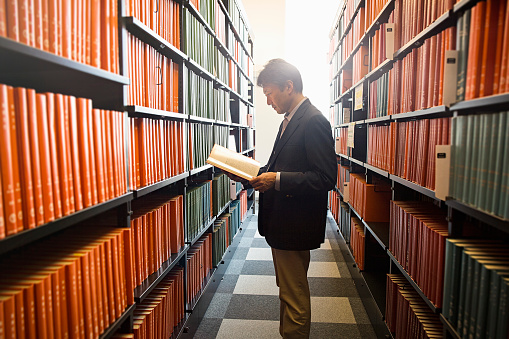em pe: (236, 64, 332, 339)
